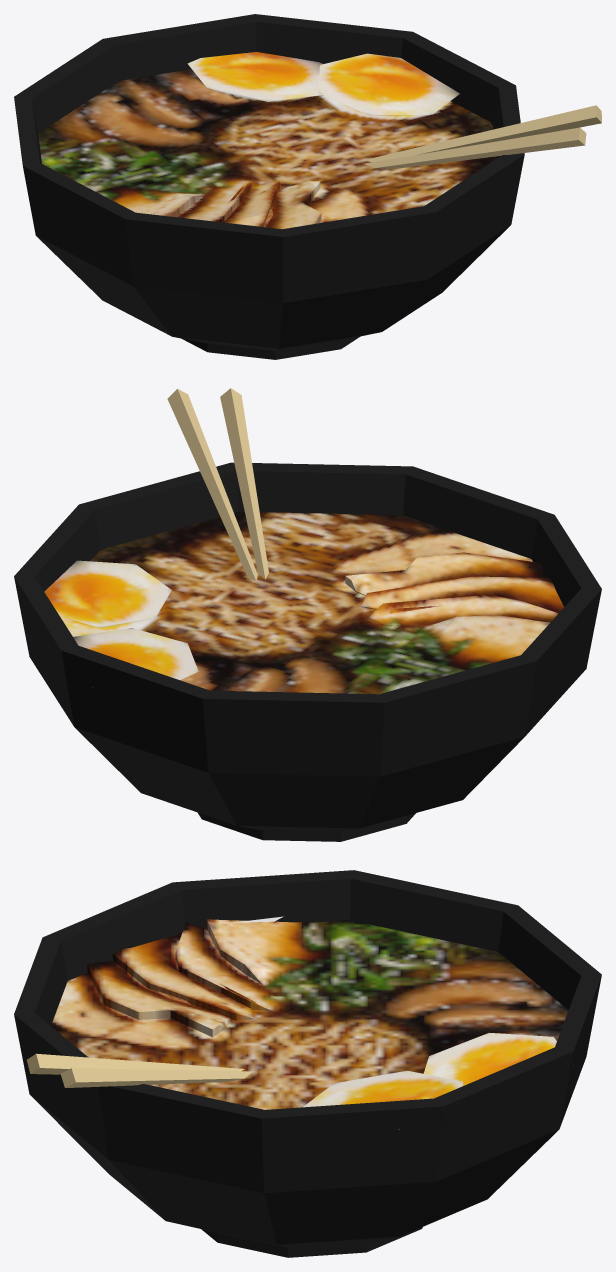
Rendered from ramen.fbx.
The picture shows the model from 3 angles, top to bottom: view 1: azimuth 30°, elevation 25°; view 2: azimuth 150°, elevation 25°; view 3: azimuth 270°, elevation 25°; orthographic projection. The views are drawn at different scales.
Parts seen in each view (by area): view 1: Cylinder.002; view 2: Cylinder.002; view 3: Cylinder.002.
Boxes of the visible parts, x1,y1,x2,y2 form: Cylinder.002: (14,14,601,359); Cylinder.002: (14,388,601,841); Cylinder.002: (14,870,601,1257).
Size of the model in its own units: 215 by 104 by 214.
